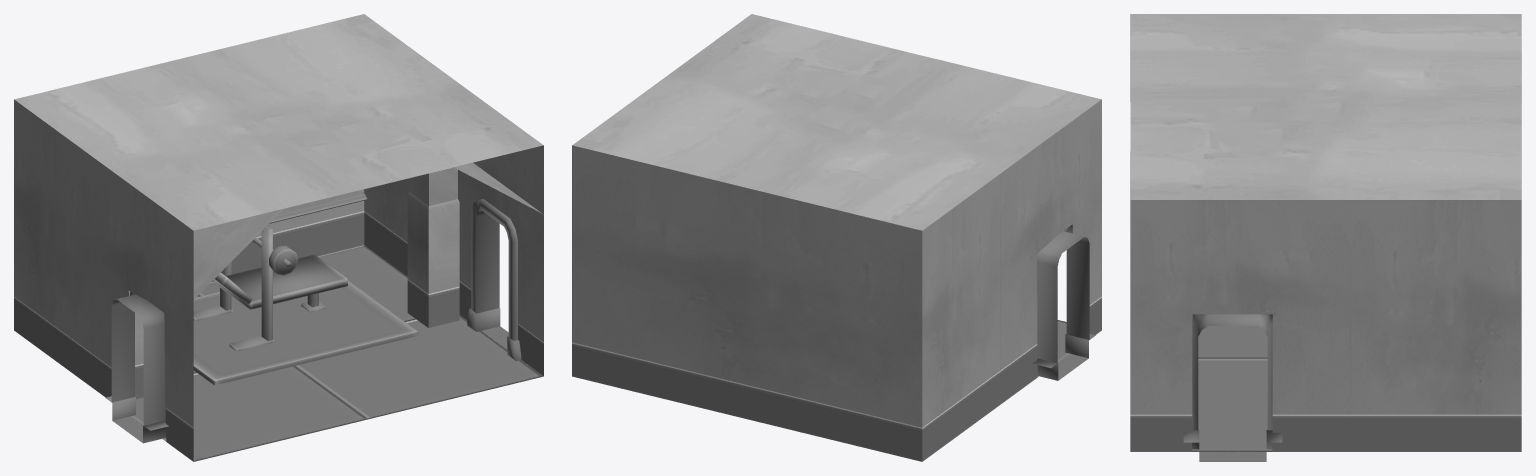
Rendered from MSH_GYM_room_L1_R1_optimized.fbx.
3 views of the same model, side by side, from view 1: azimuth 30°, elevation 25°; view 2: azimuth 150°, elevation 25°; view 3: azimuth 270°, elevation 25° (orthographic). The views are drawn at different scales.
Visible parts, largest first — view 1: lightmap1, lightmap0, lightmap-1; view 2: lightmap1, lightmap-1; view 3: lightmap1, lightmap-1.
Part boxes in pixels (bbox=[...]): lightmap1: bbox=[14, 14, 543, 461]; lightmap0: bbox=[193, 194, 418, 385]; lightmap-1: bbox=[111, 210, 508, 443]; lightmap1: bbox=[572, 14, 1101, 461]; lightmap-1: bbox=[1037, 231, 1089, 380]; lightmap1: bbox=[1130, 14, 1521, 451]; lightmap-1: bbox=[1198, 314, 1267, 461].
Size of the model in its own units: 10.3 by 5.91 by 8.26.
4 materials, 4 textured.
